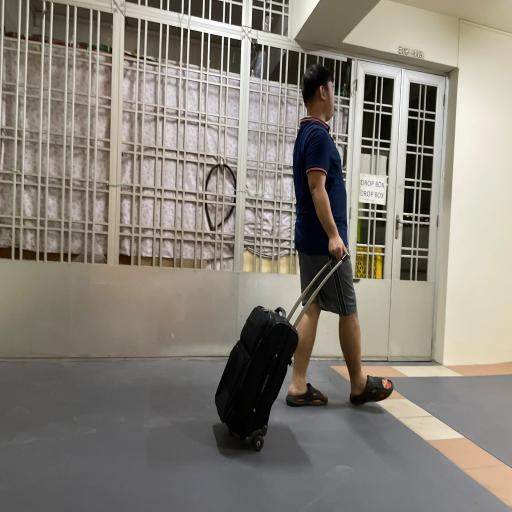person_right: (192, 60, 393, 456)
